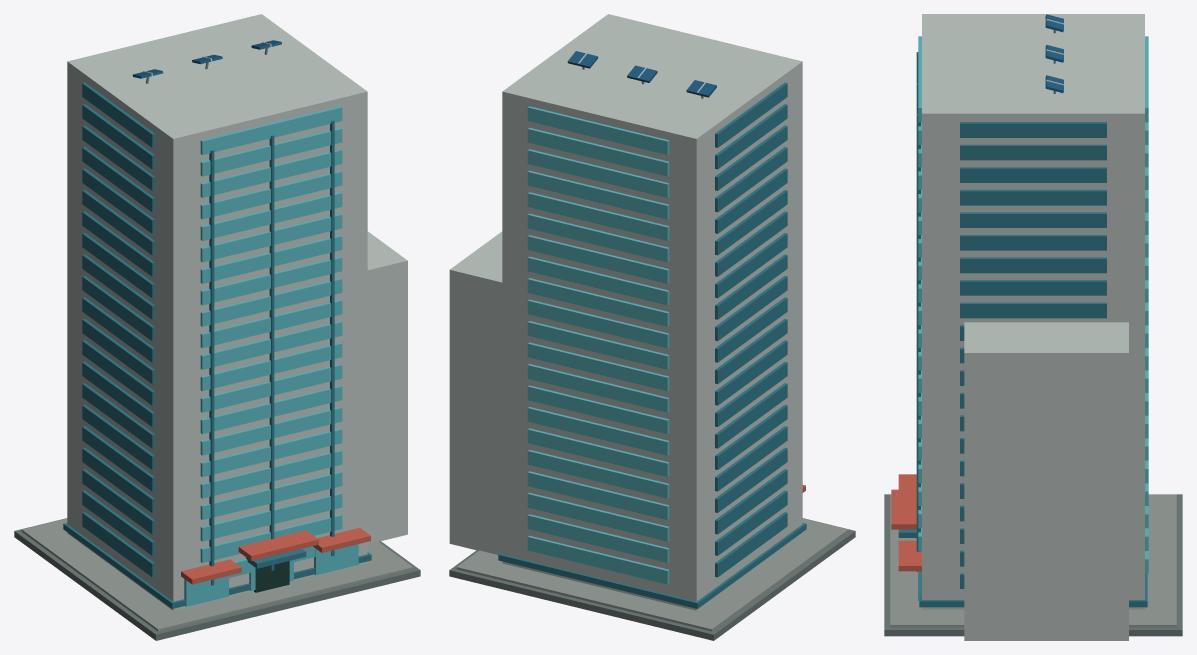
Rendered from office_lv4.glb.
The picture shows the model from 3 angles, left to right: view 1: azimuth 30°, elevation 25°; view 2: azimuth 150°, elevation 25°; view 3: azimuth 270°, elevation 25°; orthographic projection. The views are drawn at different scales.
Visible parts, largest first — view 1: rough, glossy, metallic; view 2: rough, glossy, metallic; view 3: rough, glossy, metallic.
Part boxes in pixels (left/top/right/bottom): rough: left=14, top=14, right=420, bottom=640; glossy: left=63, top=82, right=371, bottom=608; metallic: left=132, top=40, right=281, bottom=83; rough: left=449, top=14, right=855, bottom=640; glossy: left=498, top=82, right=806, bottom=608; metallic: left=567, top=51, right=716, bottom=98; rough: left=884, top=14, right=1182, bottom=640; glossy: left=898, top=36, right=1148, bottom=607; metallic: left=1045, top=14, right=1063, bottom=93.
Bounding box in the file's own units: 10.73 × 17.48 × 9.1.
